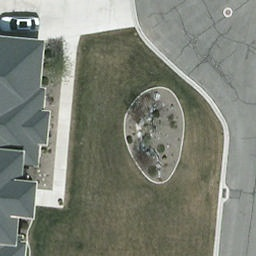car: (1, 17, 39, 33)
